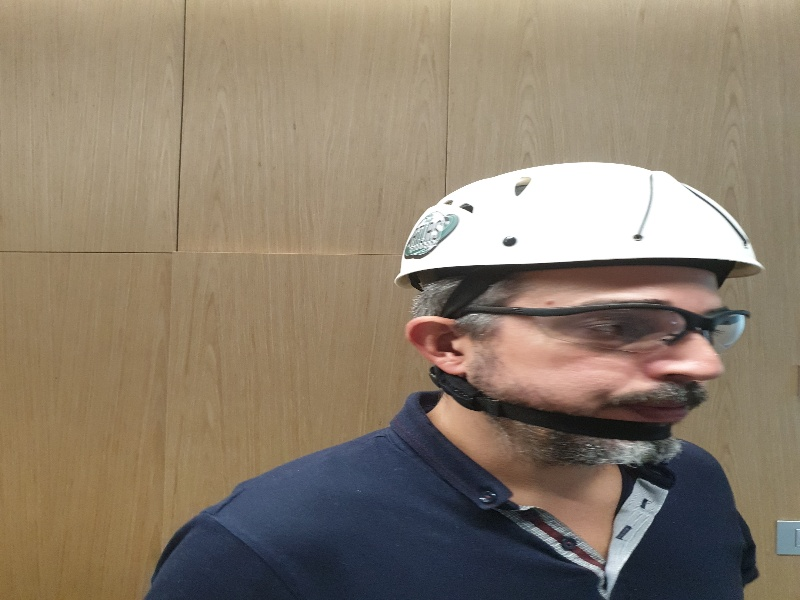Baret: (400, 161, 763, 287)
Gozluk: (459, 305, 751, 354)
